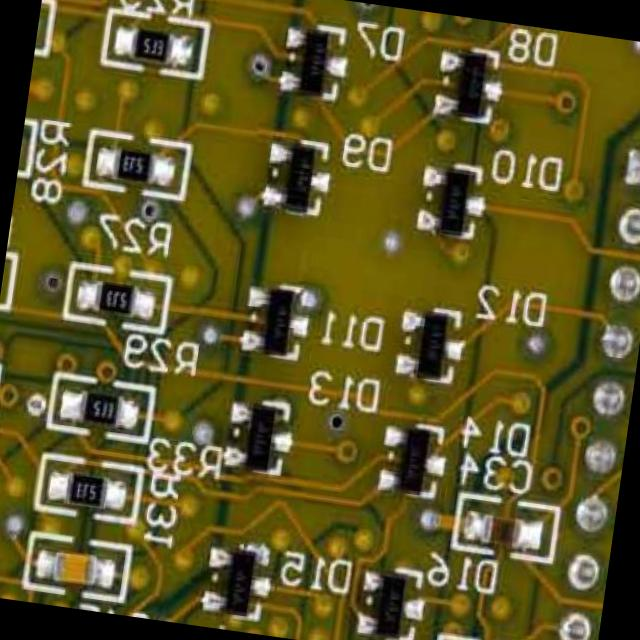capacitor: (466, 506, 540, 558), (48, 547, 104, 595)
resistor: (62, 464, 121, 513), (76, 387, 132, 427), (121, 28, 175, 63), (93, 278, 136, 316), (118, 149, 160, 181)
transistor: (432, 40, 501, 132), (251, 287, 306, 365), (234, 394, 281, 480), (426, 167, 476, 238), (286, 28, 333, 99), (368, 566, 413, 640), (277, 144, 323, 216), (215, 544, 258, 620), (393, 426, 438, 498), (413, 314, 457, 386)
